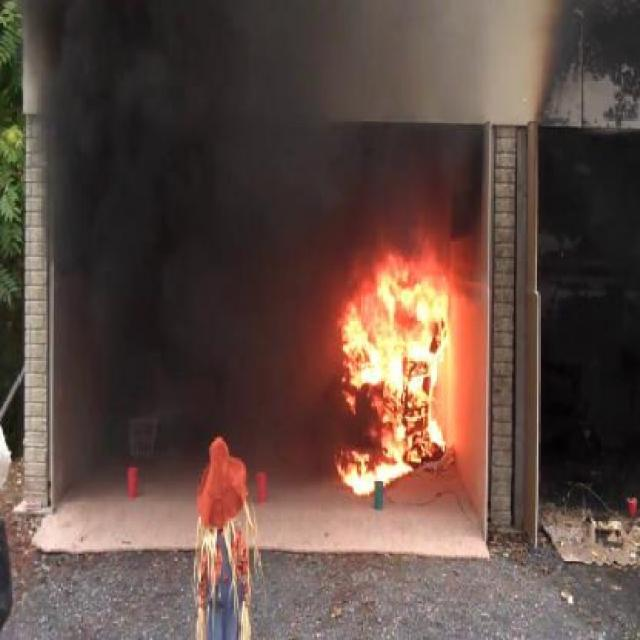fire: (337, 276, 451, 496)
smoke: (34, 23, 326, 466)
